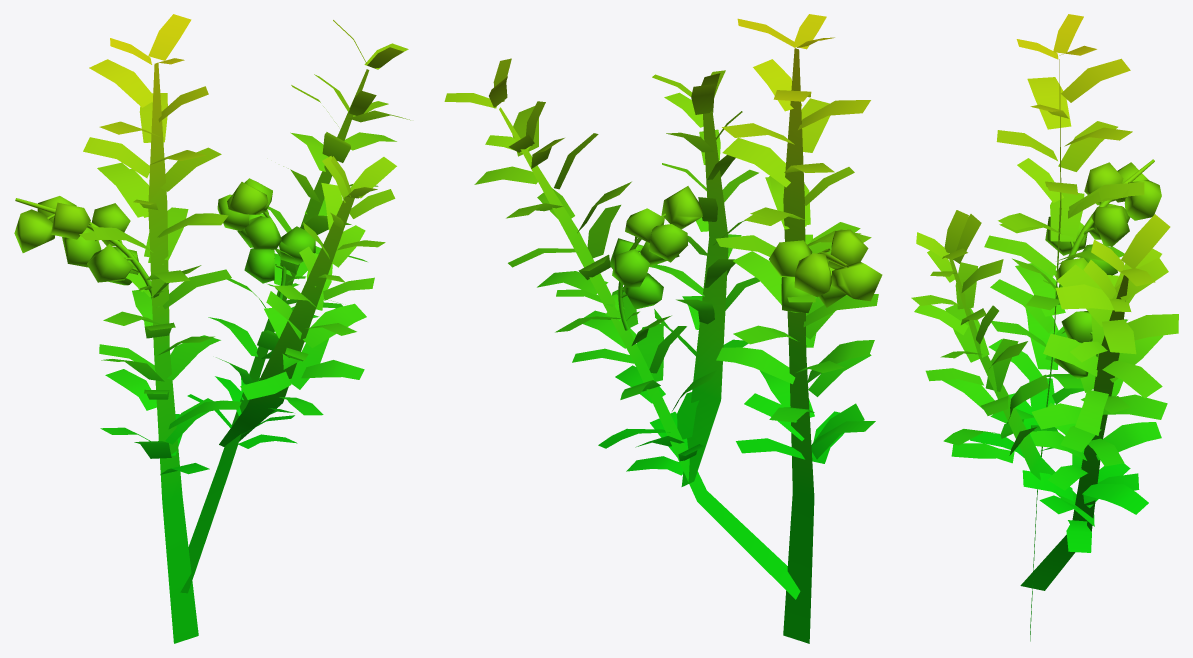
The model's file is Lingonberry_LOD3_Var9_wjhjahlqx.fbx.
3 views of the same model, side by side, from view 1: azimuth 30°, elevation 25°; view 2: azimuth 150°, elevation 25°; view 3: azimuth 270°, elevation 25° (orthographic). The views are drawn at different scales.
Visible parts, largest first — view 1: _8rrg_Var9_LOD3; view 2: _8rrg_Var9_LOD3; view 3: _8rrg_Var9_LOD3.
Part boxes in pixels (box(x1,y1,x2,y2)): _8rrg_Var9_LOD3: box(14, 14, 410, 643); _8rrg_Var9_LOD3: box(444, 14, 882, 643); _8rrg_Var9_LOD3: box(911, 14, 1178, 641).
Size of the model in its own units: 11.47 by 16.43 by 6.64.
